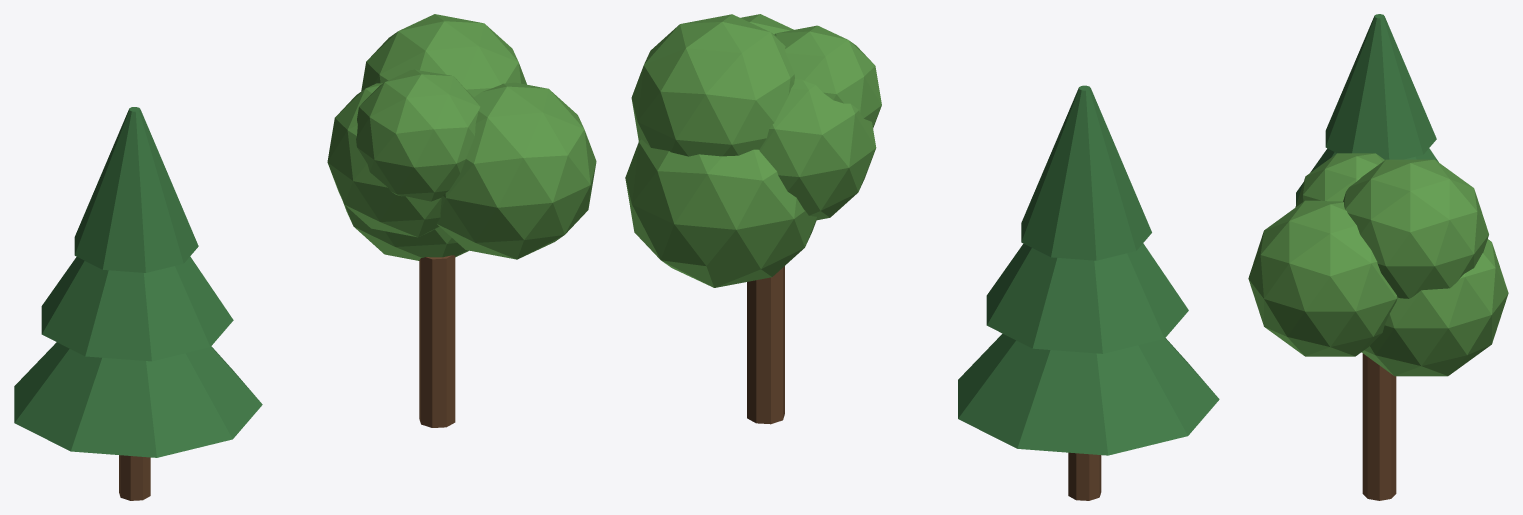
Rendered from trees.glb.
3 renders of one model, left to right at view 1: azimuth 30°, elevation 25°; view 2: azimuth 150°, elevation 25°; view 3: azimuth 270°, elevation 25°, orthographic. The views are drawn at different scales.
Parts seen in each view (by area): view 1: Pine_Leaves, Round_Leaves.001, Pine_Leaves.001, Pine_Leaves.002, Round_Leaves.004, Round_Leaves, Round_Leaves.003, Round_Trunk, Round_Leaves.002, Pine_Trunk; view 2: Pine_Leaves, Round_Leaves.002, Round_Leaves, Pine_Leaves.001, Pine_Leaves.002, Round_Leaves.003, Round_Leaves.004, Round_Trunk, Pine_Trunk; view 3: Round_Leaves.001, Round_Leaves, Round_Leaves.002, Pine_Leaves.002, Round_Trunk, Round_Leaves.004, Pine_Leaves.001.
Part boxes in pixels (bbox=[...]): Pine_Leaves: bbox=[14, 342, 262, 457]; Round_Leaves.001: bbox=[436, 82, 596, 259]; Pine_Leaves.001: bbox=[41, 256, 233, 361]; Pine_Leaves.002: bbox=[74, 107, 198, 272]; Round_Leaves.004: bbox=[356, 69, 480, 201]; Round_Leaves: bbox=[361, 14, 526, 96]; Round_Leaves.003: bbox=[327, 83, 441, 237]; Round_Trunk: bbox=[419, 255, 455, 427]; Round_Leaves.002: bbox=[343, 202, 468, 260]; Pine_Trunk: bbox=[119, 455, 150, 500]; Pine_Leaves: bbox=[958, 333, 1219, 455]; Round_Leaves.002: bbox=[625, 139, 817, 287]; Round_Leaves: bbox=[631, 14, 794, 156]; Pine_Leaves.001: bbox=[986, 243, 1188, 353]; Pine_Leaves.002: bbox=[1021, 85, 1151, 260]; Round_Leaves.003: bbox=[759, 79, 876, 220]; Round_Leaves.004: bbox=[774, 25, 881, 128]; Round_Trunk: bbox=[747, 266, 784, 424]; Pine_Trunk: bbox=[1068, 452, 1101, 500]; Round_Leaves.001: bbox=[1248, 200, 1397, 356]; Round_Leaves: bbox=[1343, 159, 1488, 298]; Round_Leaves.002: bbox=[1361, 239, 1508, 376]; Pine_Leaves.002: bbox=[1325, 14, 1436, 159]; Round_Trunk: bbox=[1362, 353, 1396, 500]; Round_Leaves.004: bbox=[1295, 153, 1384, 207]; Pine_Leaves.001: bbox=[1296, 148, 1438, 204].
Size of the model in its own units: 5.25 by 3.65 by 2.49.
